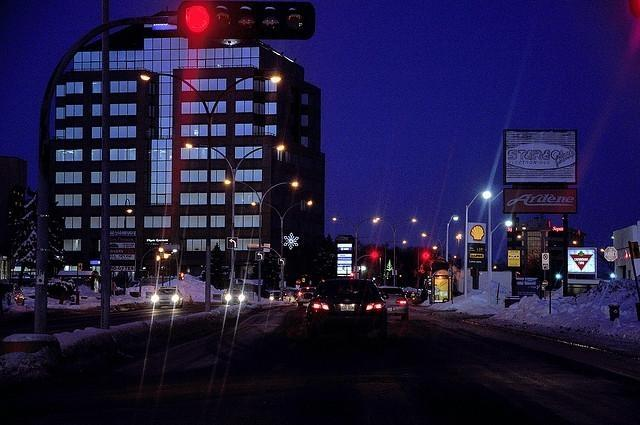car: (306, 278, 388, 338), (377, 285, 409, 321), (152, 286, 184, 308), (1, 282, 24, 306), (222, 288, 248, 304), (298, 287, 316, 303), (404, 292, 422, 306)
